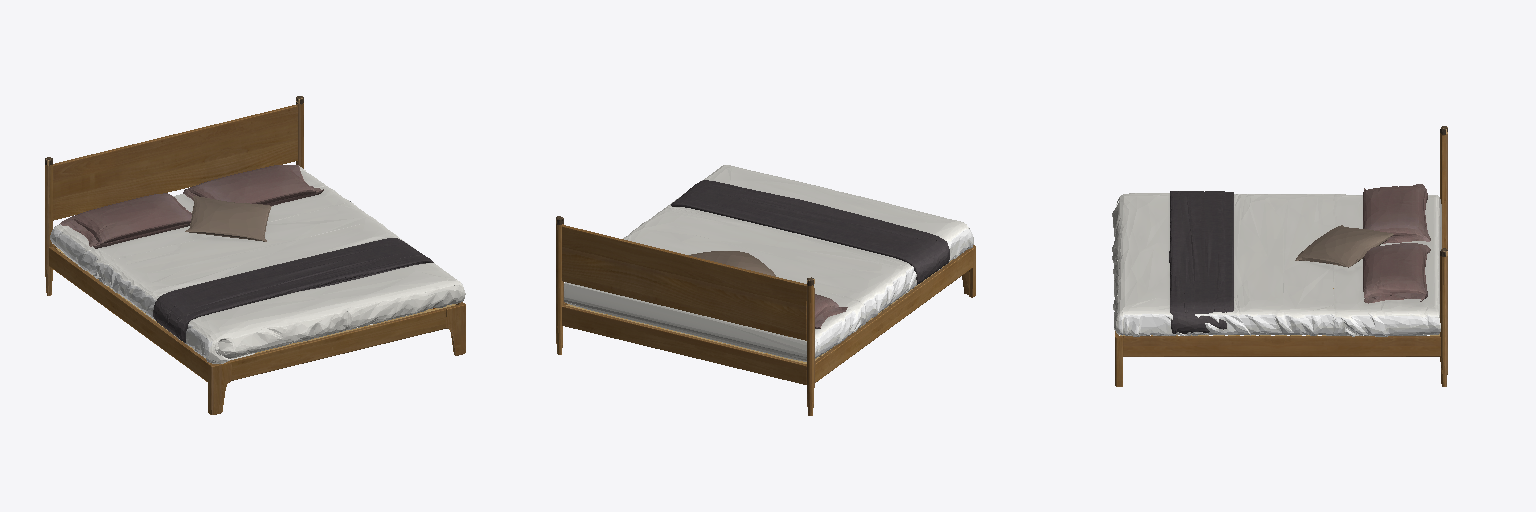
The picture shows the model from 3 angles: view 1: azimuth 30°, elevation 25°; view 2: azimuth 150°, elevation 25°; view 3: azimuth 270°, elevation 25°; orthographic projection.
Visible parts, largest first — view 1: solid_001, solid_005, solid_002, solid_003, solid_004; view 2: solid_005, solid_001, solid_002, solid_004, solid_003; view 3: solid_001, solid_005, solid_002, solid_003, solid_004.
Part boxes in pixels (left/top/right/bottom): solid_001: left=50, top=166, right=465, bottom=363; solid_005: left=45, top=103, right=465, bottom=414; solid_002: left=153, top=238, right=433, bottom=342; solid_003: left=60, top=165, right=323, bottom=248; solid_004: left=185, top=196, right=271, bottom=241; solid_005: left=556, top=224, right=975, bottom=415; solid_001: left=564, top=165, right=973, bottom=361; solid_002: left=671, top=180, right=949, bottom=284; solid_004: left=689, top=251, right=775, bottom=276; solid_003: left=815, top=294, right=847, bottom=328; solid_001: left=1112, top=193, right=1441, bottom=336; solid_005: left=1115, top=133, right=1447, bottom=386; solid_002: left=1169, top=191, right=1233, bottom=333; solid_003: left=1363, top=184, right=1430, bottom=303; solid_004: left=1295, top=225, right=1393, bottom=267.
Bounding box in the file's own units: 1.78 × 0.8992 × 2.
1 materials, 1 textured.